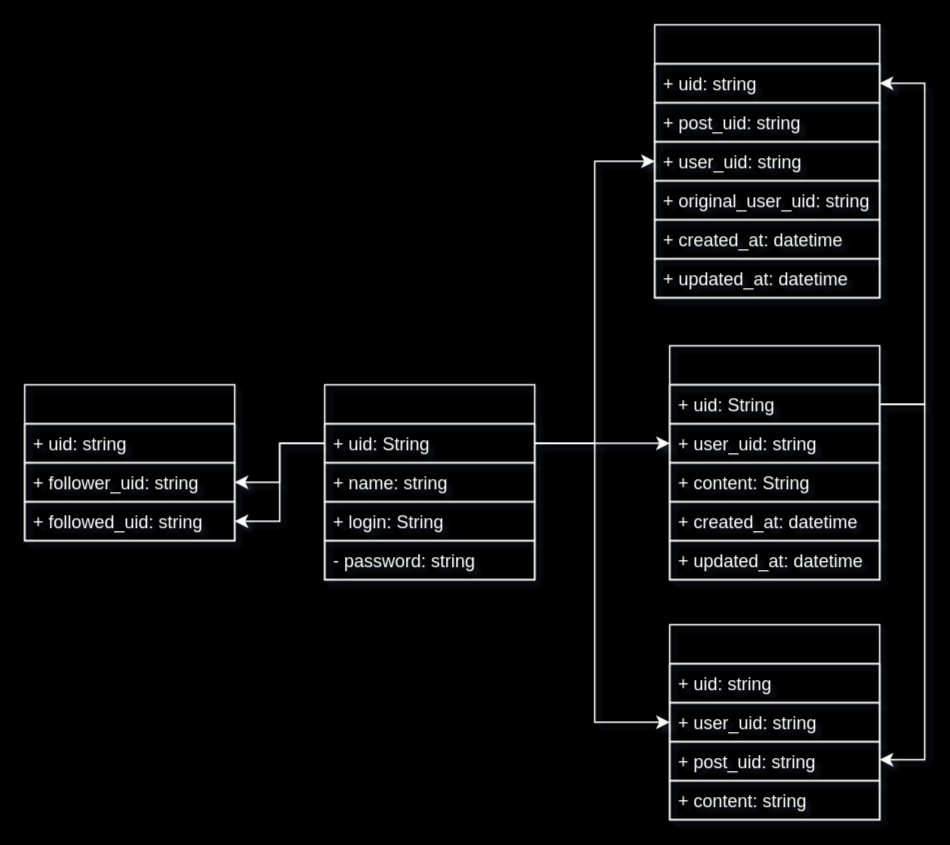
Image size: 950x845. Some labels were removed from this diagram. The shapes that lost their labels are listed below. From the top down, each one's box as (x1, y1, x2, y2) in pixels, then its label:
(653, 23, 880, 298): Repost
(23, 383, 235, 541): Follows
(323, 383, 535, 580): User
(668, 344, 880, 580): Post
(668, 623, 880, 820): QuotePost
